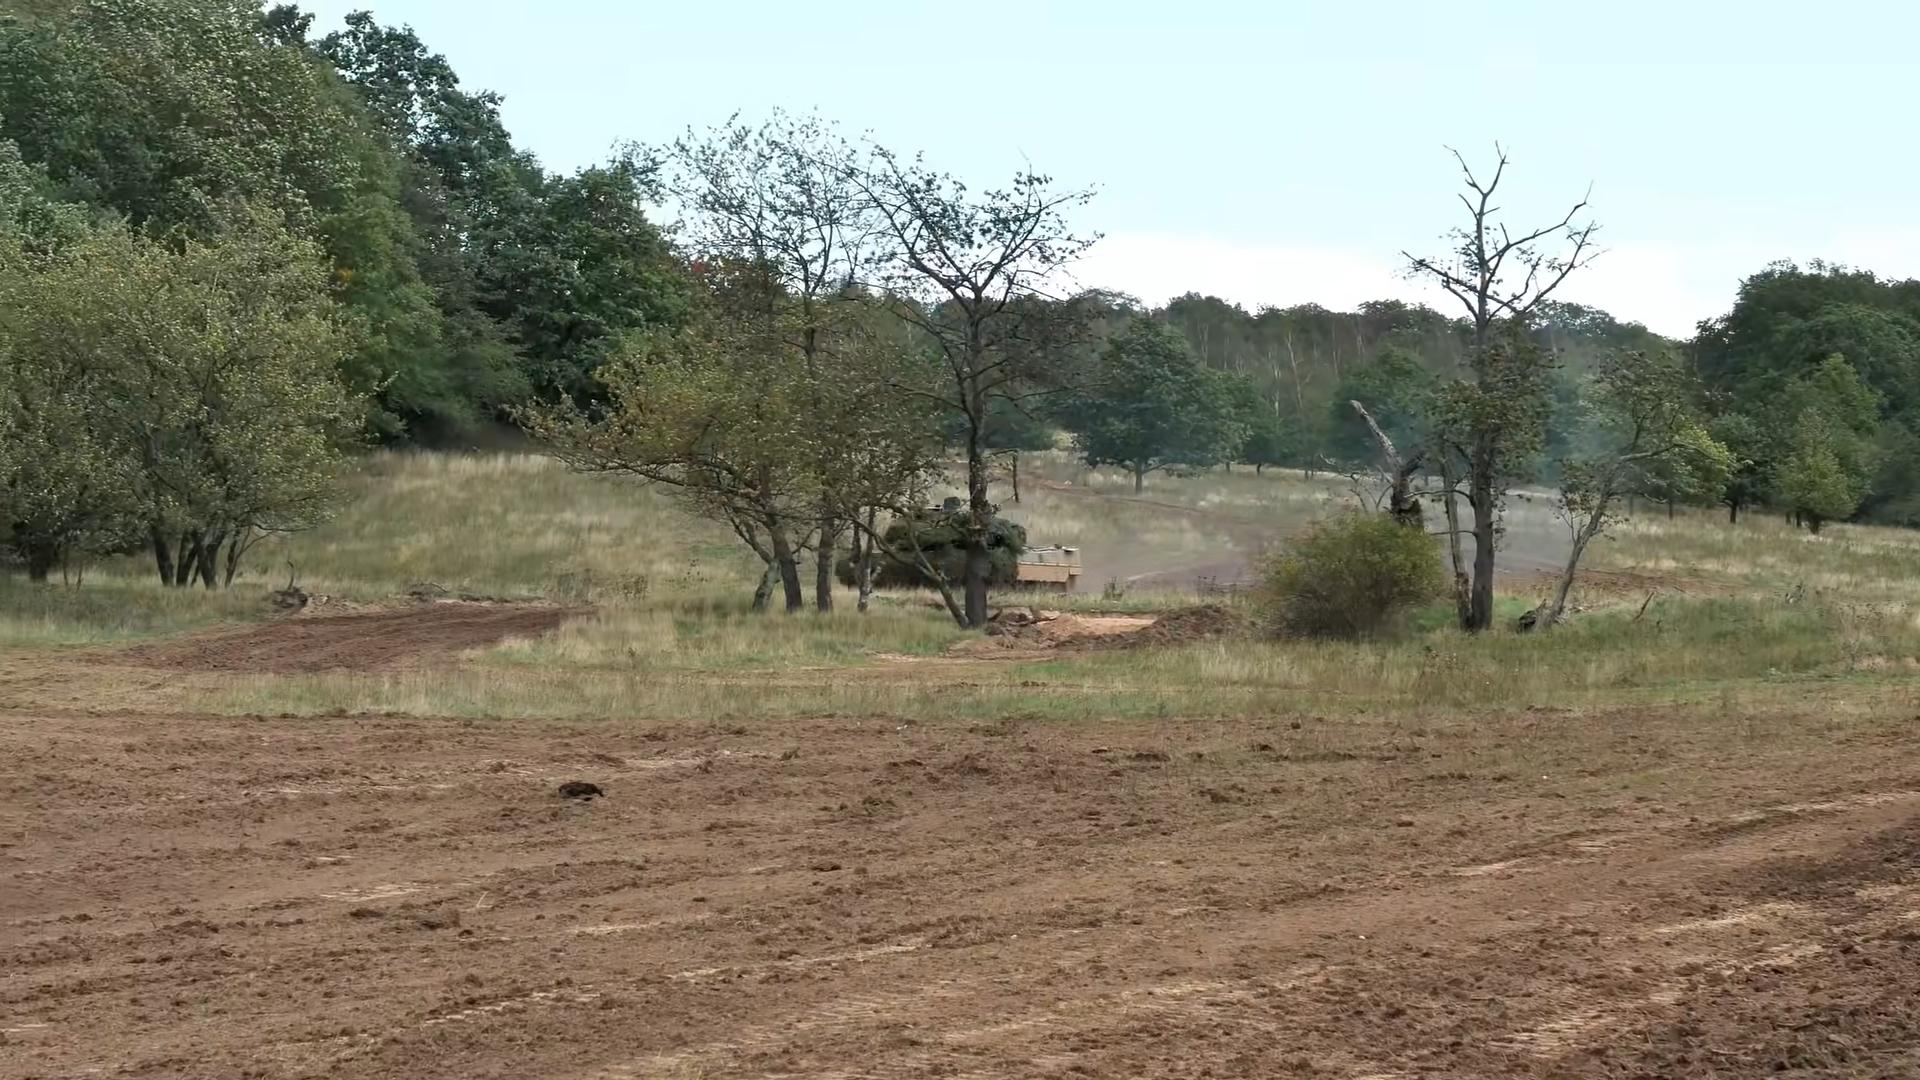tank: (837, 498, 1081, 593)
